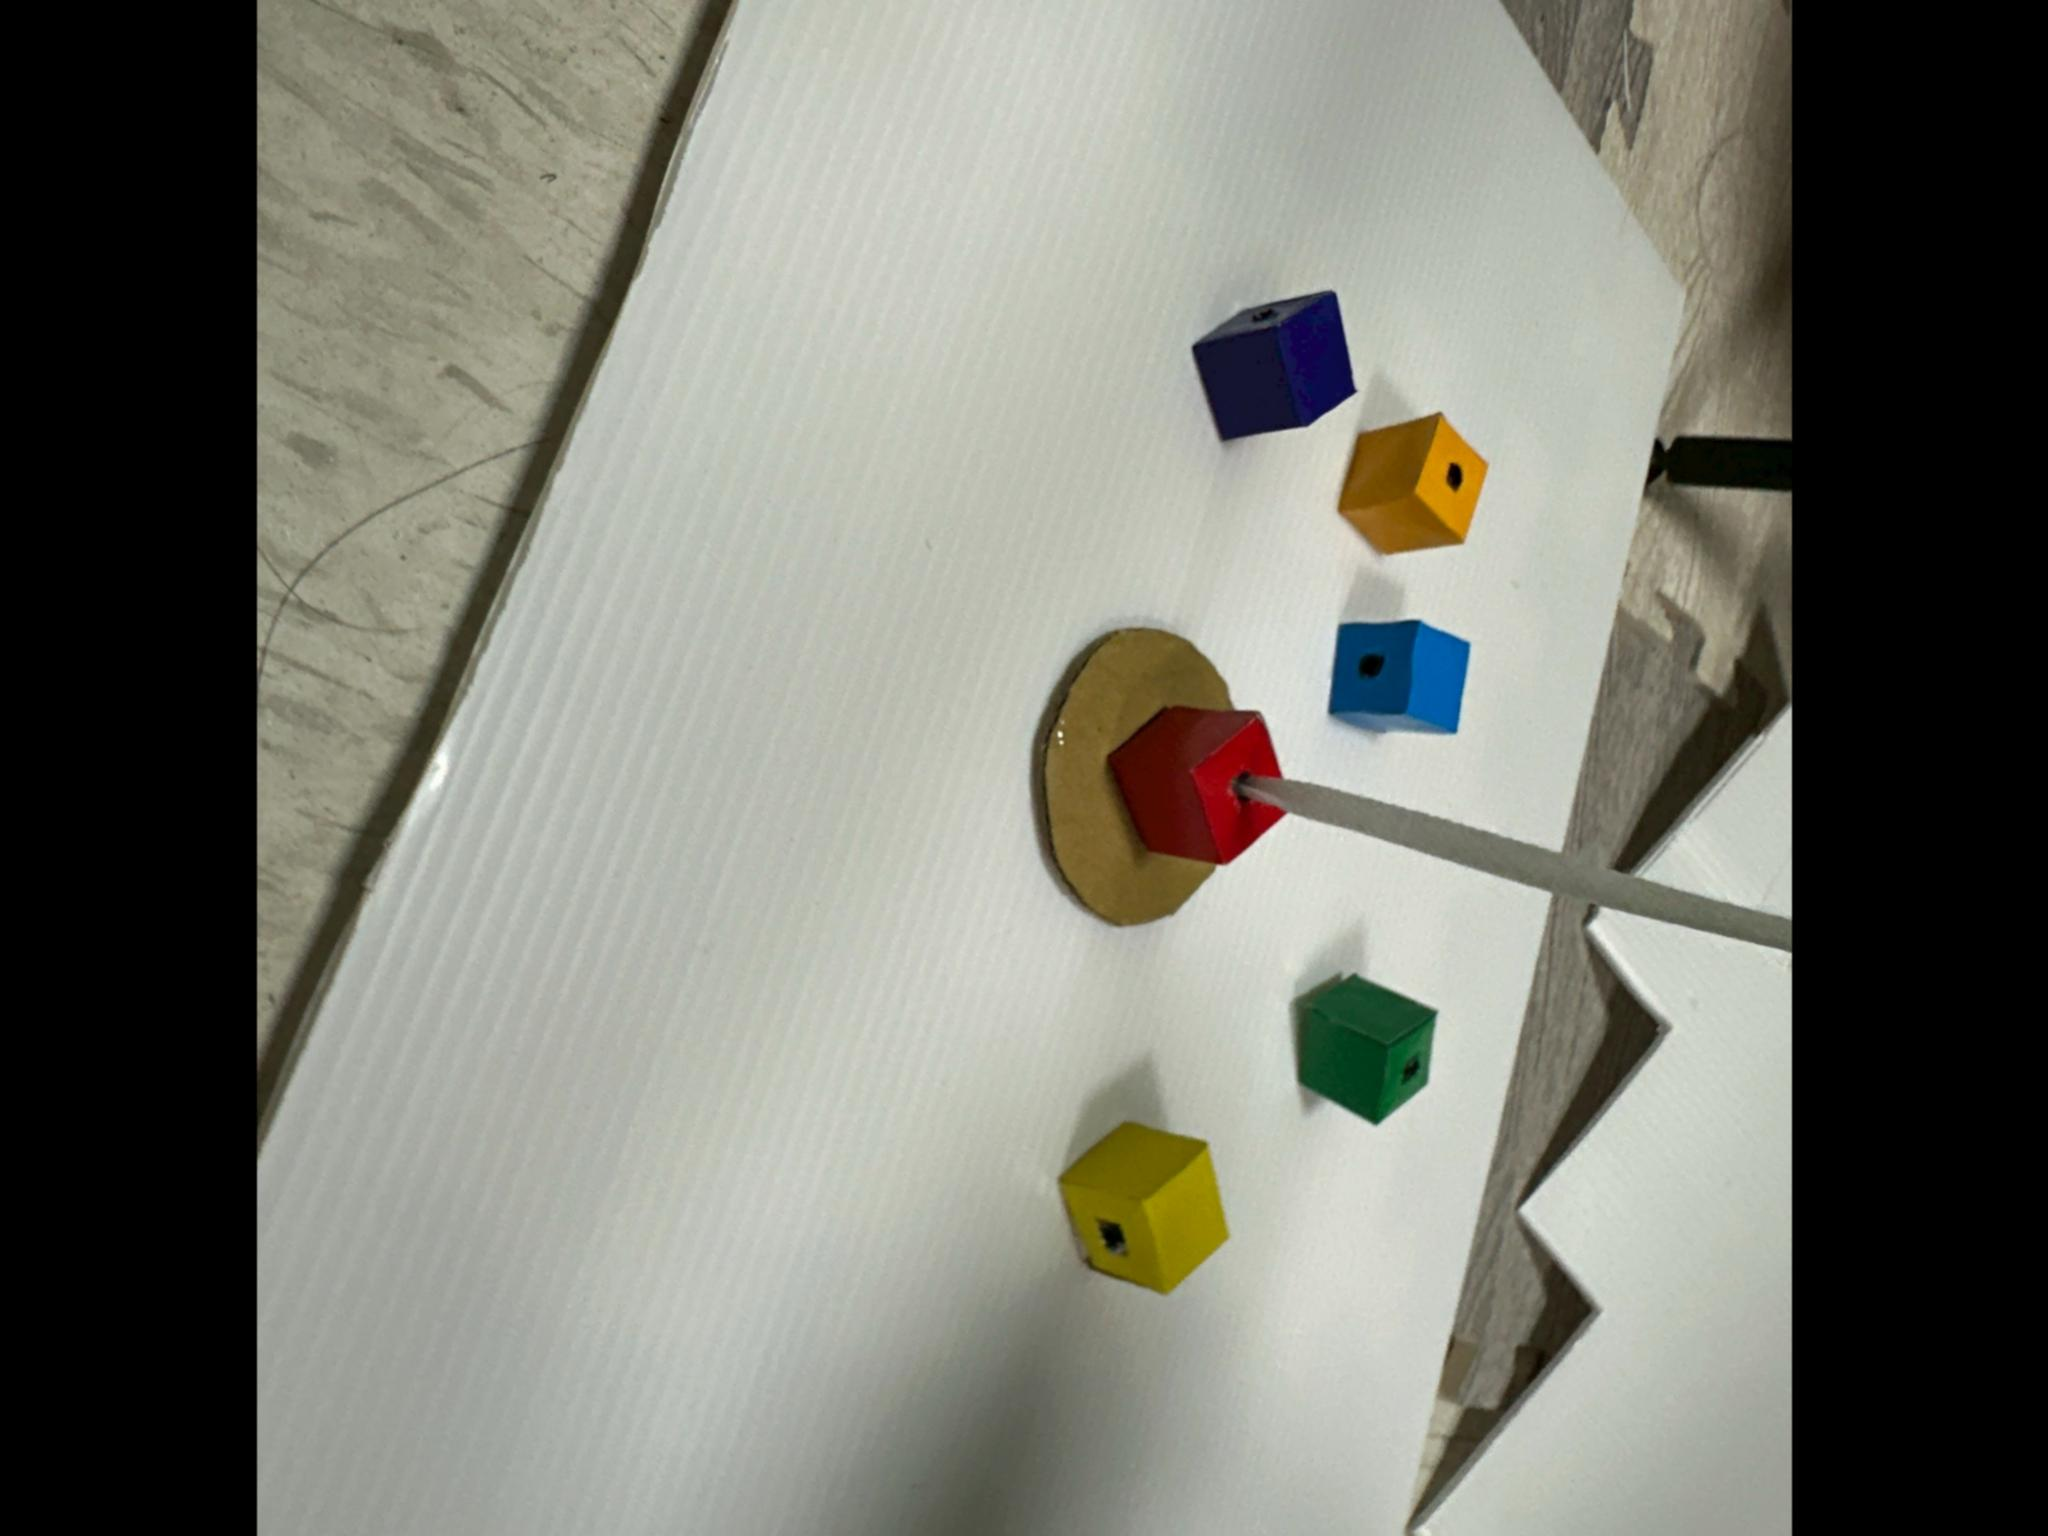base: (1039, 628, 1230, 926)
cube: (1058, 1123, 1227, 1294), (1106, 707, 1284, 865), (1192, 292, 1355, 442), (1338, 413, 1487, 555), (1297, 975, 1435, 1125), (1329, 621, 1469, 734)
